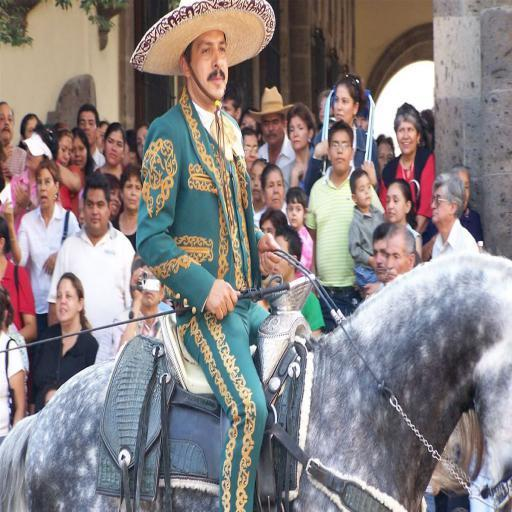horse: (0, 256, 512, 512)
